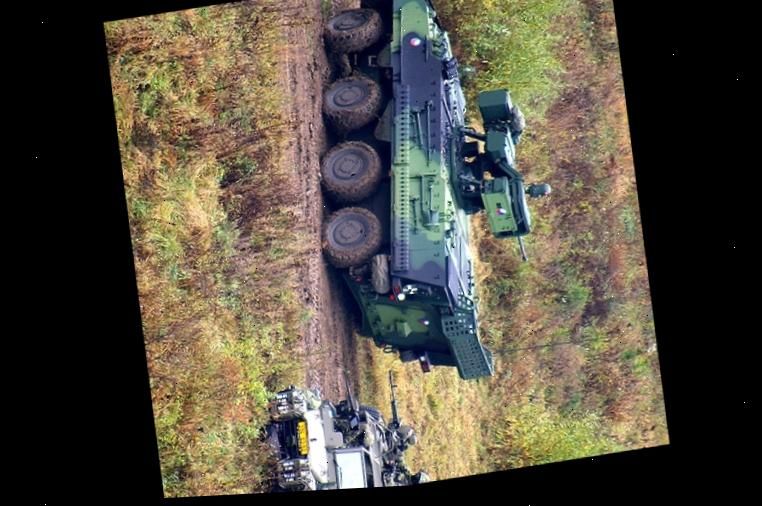armored_car: (283, 0, 571, 397)
